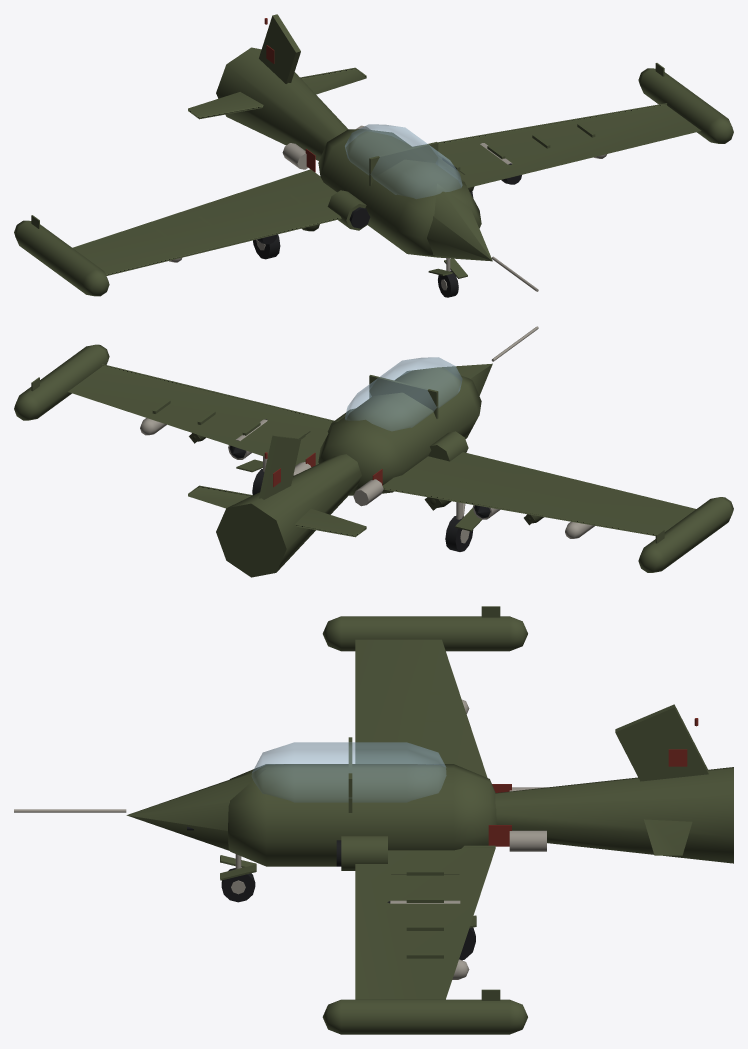
The model's file is a-37-dragonfly-light.glb.
3 renders of one model, top to bottom at view 1: azimuth 30°, elevation 25°; view 2: azimuth 150°, elevation 25°; view 3: azimuth 270°, elevation 25°, orthographic. The views are drawn at different scales.
Visible parts, largest first — view 1: Mesh_MainWingRight, Mesh_MainWingLeft, Mesh_CockpitBody, Mesh_RearFuselage, Mesh_CanopyGlass, Mesh_TipTank_R, Mesh_NoseCone, Mesh_TipTank_L, Mesh_VerticalStabilizer, Mesh_CanopyFrameCenter, Mesh_HorizontalTailRight, Mesh_HorizontalTailLeft (+1 smaller); view 2: Mesh_MainWingRight, Mesh_MainWingLeft, Mesh_CockpitBody, Mesh_RearFuselage, Mesh_CanopyGlass, Mesh_TipTank_R, Mesh_TipTank_L, Mesh_VerticalStabilizer, Mesh_CanopyFrameCenter, Mesh_HorizontalTailRight, Mesh_HorizontalTailLeft, Mesh_IntakeCowlR (+3 smaller); view 3: Mesh_CockpitBody, Mesh_MainWingLeft, Mesh_RearFuselage, Mesh_MainWingRight, Mesh_CanopyGlass, Mesh_TipTank_L, Mesh_TipTank_R, Mesh_VerticalStabilizer, Mesh_NoseCone, Mesh_IntakeCowlL, Mesh_HorizontalTailLeft, Mesh_ExhaustL.
Boxes of the visible parts, x1,y1,x2,y2 form: Mesh_MainWingRight: [72, 169, 341, 275]; Mesh_MainWingLeft: [413, 103, 701, 187]; Mesh_CockpitBody: [318, 129, 481, 257]; Mesh_RearFuselage: [216, 47, 347, 160]; Mesh_CanopyGlass: [345, 124, 462, 198]; Mesh_TipTank_R: [14, 220, 109, 296]; Mesh_NoseCone: [427, 184, 492, 261]; Mesh_TipTank_L: [638, 68, 733, 143]; Mesh_VerticalStabilizer: [259, 14, 300, 83]; Mesh_CanopyFrameCenter: [369, 142, 438, 186]; Mesh_HorizontalTailRight: [188, 92, 263, 119]; Mesh_HorizontalTailLeft: [300, 67, 366, 94]; Mesh_MainWingRight: [382, 452, 695, 535]; Mesh_MainWingLeft: [68, 364, 334, 465]; Mesh_CockpitBody: [318, 367, 481, 495]; Mesh_RearFuselage: [216, 454, 361, 577]; Mesh_CanopyGlass: [345, 357, 462, 430]; Mesh_TipTank_R: [638, 497, 733, 572]; Mesh_TipTank_L: [14, 344, 109, 420]; Mesh_VerticalStabilizer: [259, 435, 300, 499]; Mesh_CanopyFrameCenter: [369, 375, 438, 418]; Mesh_HorizontalTailRight: [295, 508, 366, 537]; Mesh_HorizontalTailLeft: [188, 485, 252, 508]; Mesh_IntakeCowlR: [428, 431, 468, 461]; Mesh_CockpitBody: [228, 764, 496, 866]; Mesh_MainWingLeft: [355, 845, 495, 999]; Mesh_RearFuselage: [495, 767, 733, 863]; Mesh_MainWingRight: [355, 639, 487, 777]; Mesh_CanopyGlass: [252, 742, 446, 802]; Mesh_TipTank_L: [322, 999, 527, 1034]; Mesh_TipTank_R: [322, 616, 527, 651]; Mesh_VerticalStabilizer: [615, 704, 708, 781]; Mesh_NoseCone: [126, 769, 265, 850]; Mesh_IntakeCowlL: [341, 836, 387, 870]; Mesh_HorizontalTailLeft: [644, 819, 692, 855]; Mesh_ExhaustL: [509, 830, 546, 851].
Bounding box in the file's own units: 10.1 × 2.29 × 7.7.
Materials: 2 (2 with a texture image).
